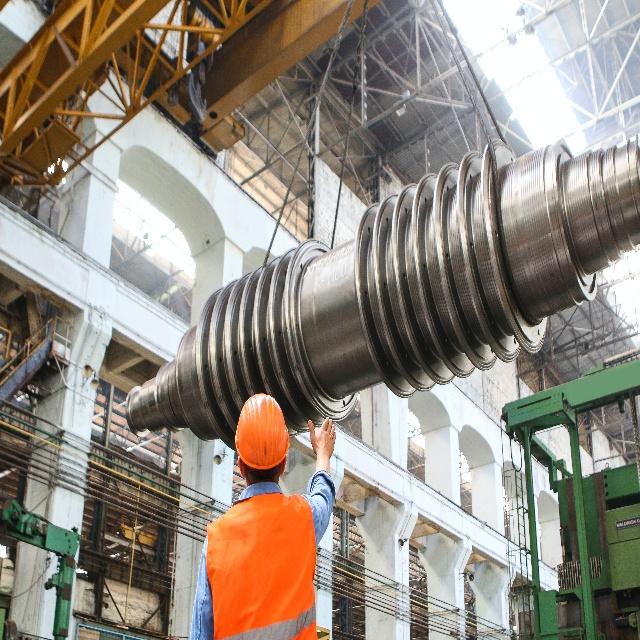Sin_guantes: (307, 416, 336, 459)
